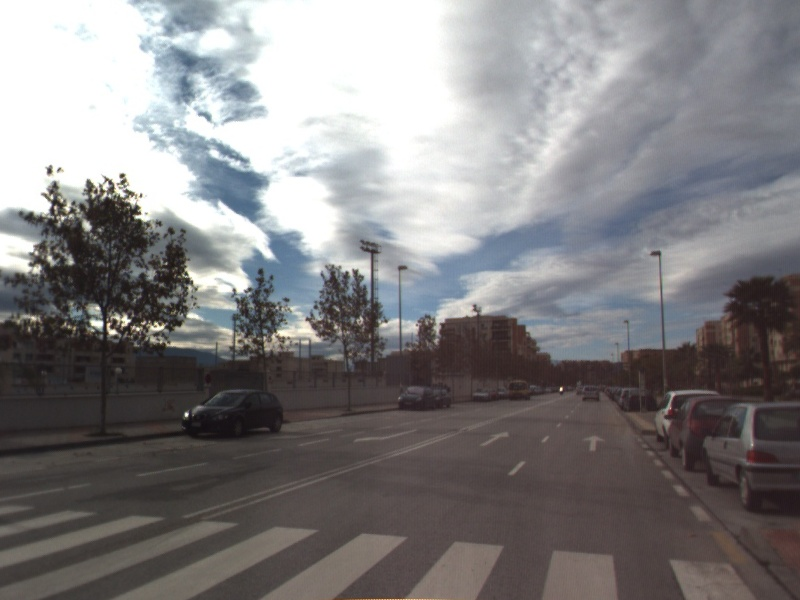STRAIGHT: (477, 429, 511, 448), (580, 432, 608, 453)
